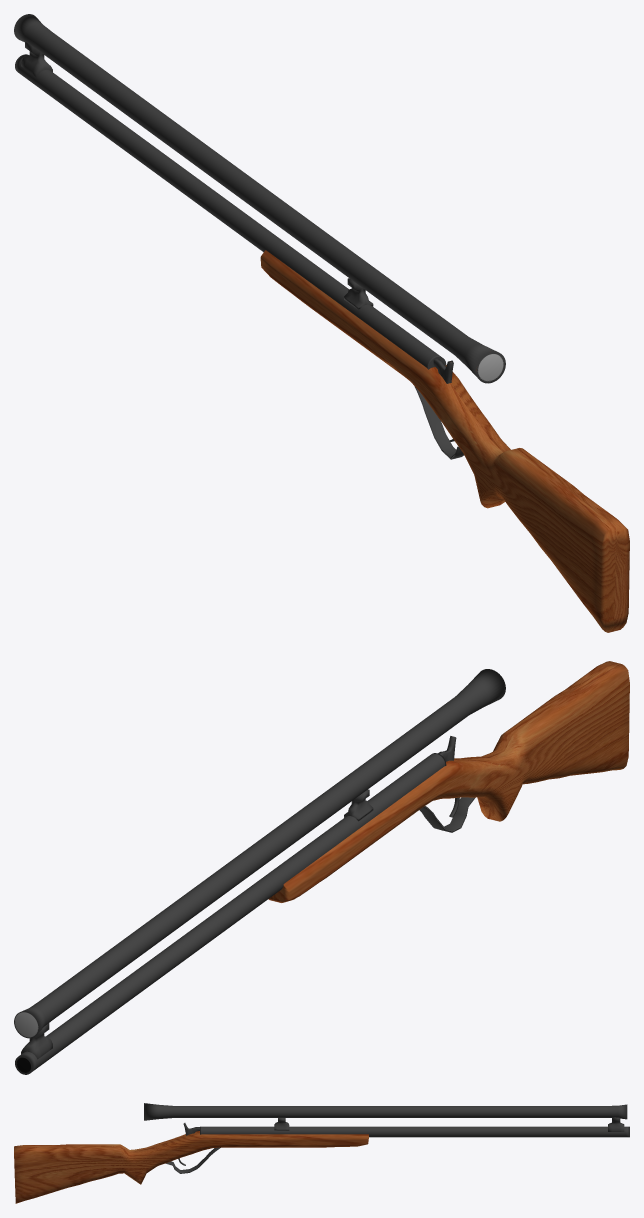
The model's file is Scoped_Rifle.fbx.
3 renders of one model, top to bottom at view 1: azimuth 30°, elevation 25°; view 2: azimuth 150°, elevation 25°; view 3: azimuth 270°, elevation 25°, orthographic. The views are drawn at different scales.
Visible parts, largest first — view 1: Cylinder.001; view 2: Cylinder.001; view 3: Cylinder.001.
Boxes of the visible parts, bbox=[...] form: Cylinder.001: bbox=[14, 14, 629, 632]; Cylinder.001: bbox=[14, 661, 629, 1074]; Cylinder.001: bbox=[14, 1103, 629, 1203].
Size of the model in its own units: 13.24 by 80.81 by 458.
1 material, 1 textured.
